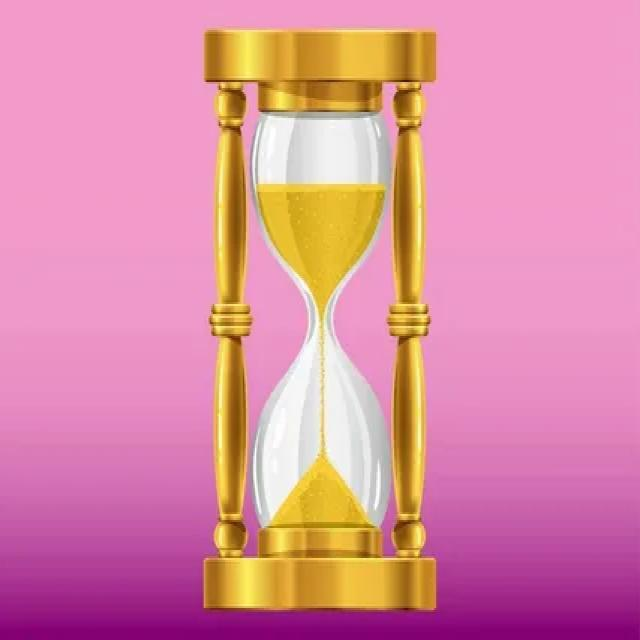clock: (193, 16, 451, 623)
